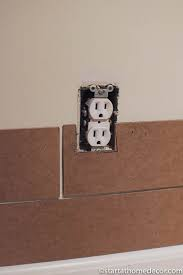outlet: (93, 100, 109, 119), (92, 127, 106, 147)
